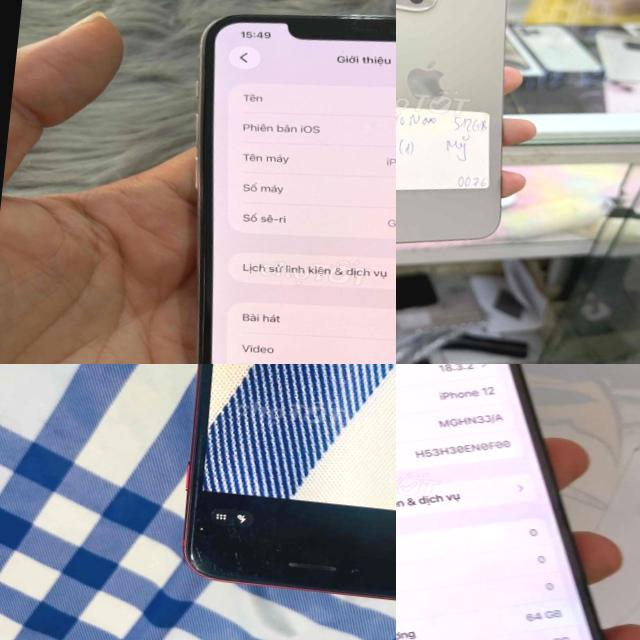scratch: (220, 541, 396, 601), (180, 517, 219, 574)
